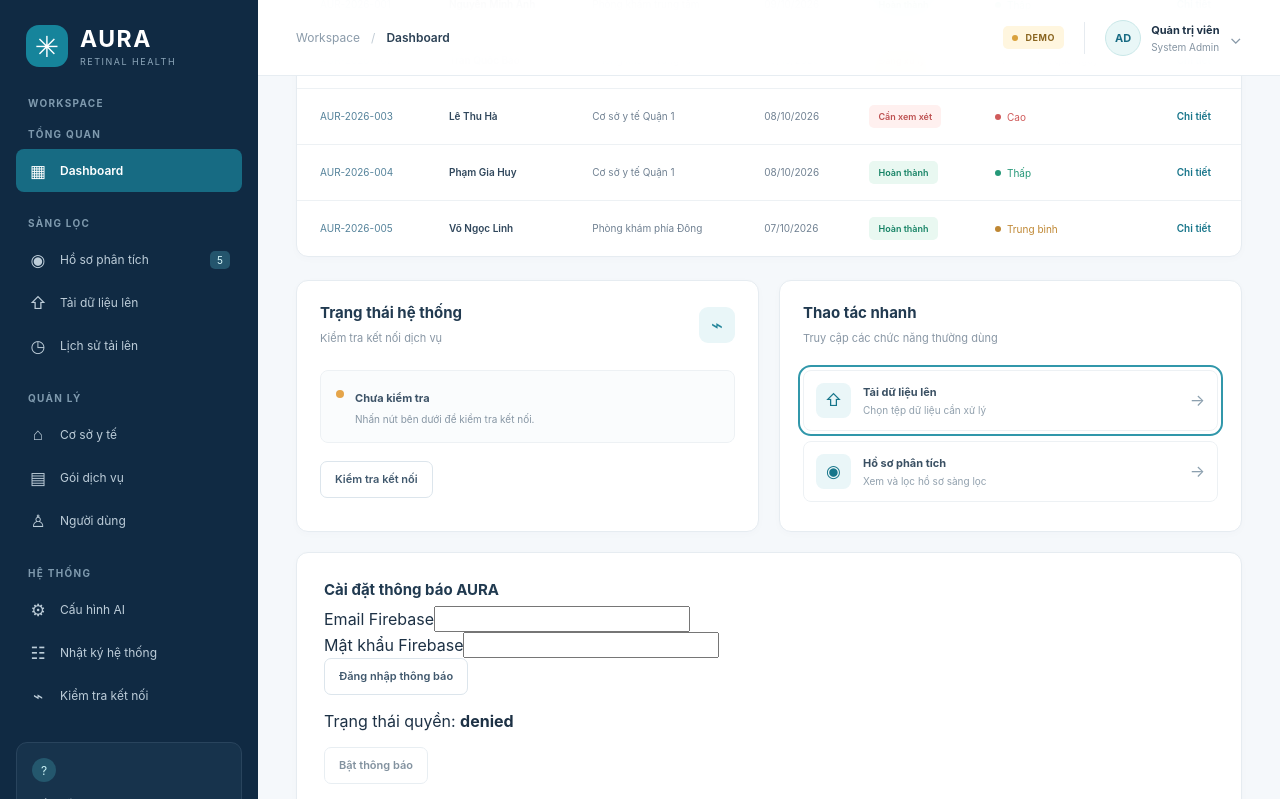
Test: AURA upload modal keyboard › restores focus after closing with the close button
The width and height of the screenshot is (1280, 799).
(page scrolled)
Click the button "⇧ Tải dữ liệu lên Chọn tệp dữ liệu cần xử lý →". click: (834, 400)
box: [803,370,1218,431]
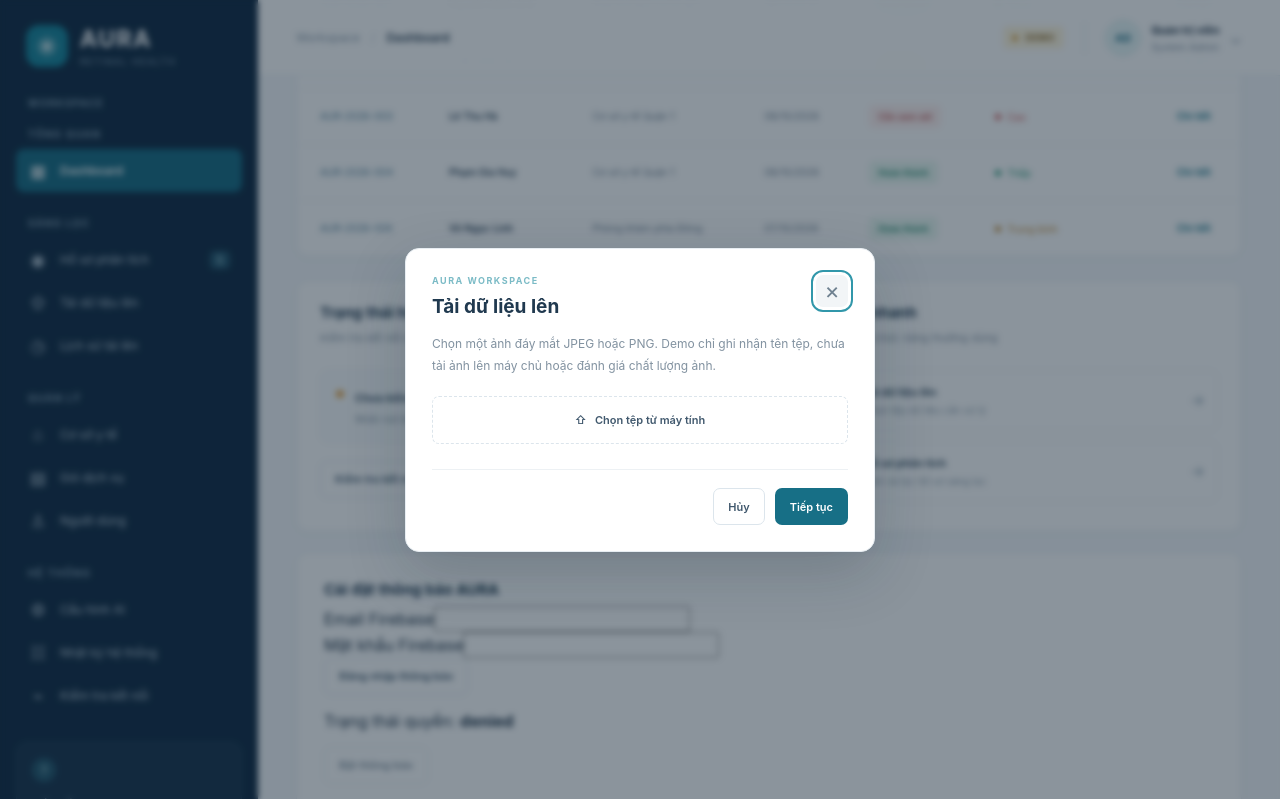
Click the button named "Đóng cửa sổ". click: (832, 291)
box: [816,275,848,307]
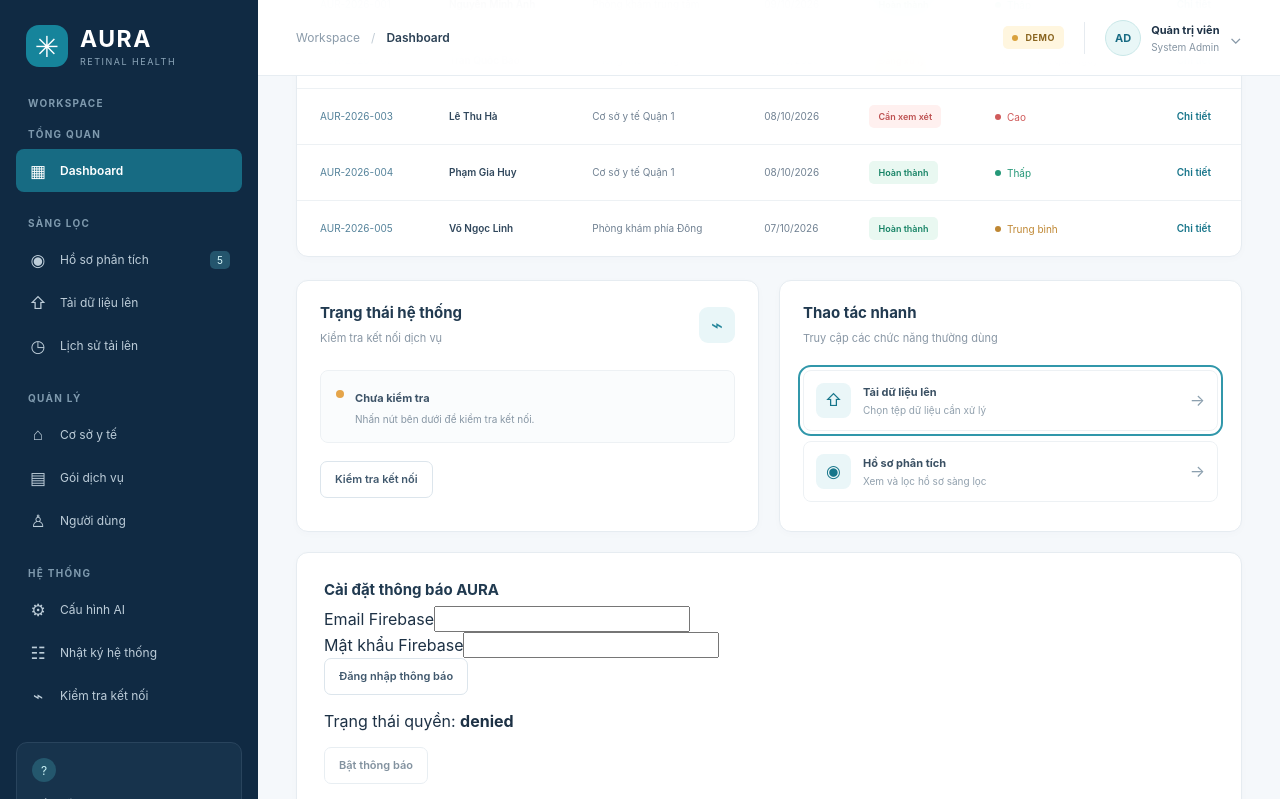
Expected: the dialog is gone
